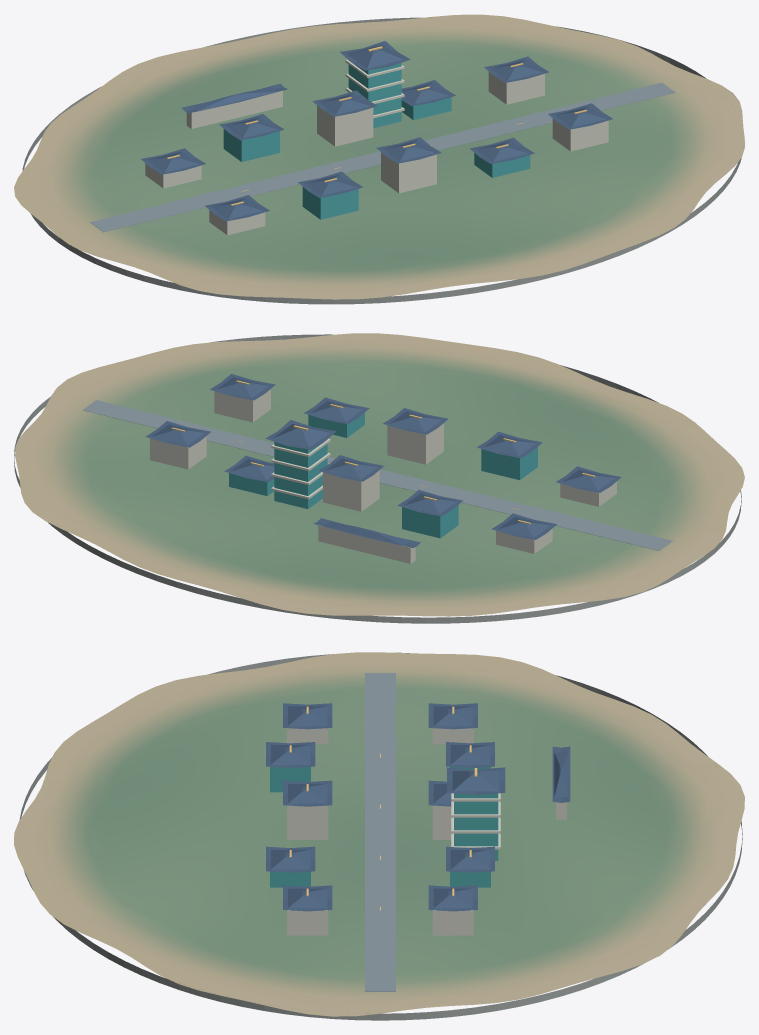
File: near.glb
The picture shows the model from 3 angles, top to bottom: view 1: azimuth 30°, elevation 25°; view 2: azimuth 150°, elevation 25°; view 3: azimuth 270°, elevation 25°; orthographic projection. The views are drawn at different scales.
Parts seen in each view (by area): view 1: EastIslandTerrain, Batched Ink blue architecture, Batched Pale stone architecture, Island avenue, CoastCliff, Batched Jade glass architecture, Signal tower; view 2: EastIslandTerrain, Batched Ink blue architecture, Batched Pale stone architecture, Island avenue, CoastCliff, Batched Jade glass architecture, Signal tower; view 3: EastIslandTerrain, Batched Ink blue architecture, Island avenue, Batched Pale stone architecture, CoastCliff, Signal tower, Batched Jade glass architecture.
Part boxes in pixels (x1,y1,x2,y2): EastIslandTerrain: (14, 14, 744, 299); Batched Ink blue architecture: (141, 41, 612, 221); Batched Pale stone architecture: (145, 59, 608, 235); Island avenue: (90, 82, 675, 232); CoastCliff: (22, 17, 741, 304); Batched Jade glass architecture: (223, 97, 530, 219); Signal tower: (348, 60, 401, 128); EastIslandTerrain: (15, 333, 744, 616); Batched Ink blue architecture: (145, 374, 621, 547); Batched Pale stone architecture: (150, 389, 616, 563); Island avenue: (83, 400, 672, 550); CoastCliff: (14, 334, 741, 623); Batched Jade glass architecture: (229, 413, 537, 538); Signal tower: (274, 439, 327, 508); EastIslandTerrain: (14, 652, 744, 1016); Batched Ink blue architecture: (266, 703, 570, 911); Island avenue: (365, 673, 395, 991); Batched Pale stone architecture: (287, 728, 566, 935); CoastCliff: (19, 652, 742, 1020); Signal tower: (454, 793, 498, 860); Batched Jade glass architecture: (270, 767, 490, 887).
Bounding box in the file's own units: 1713 × 192 × 1454.
